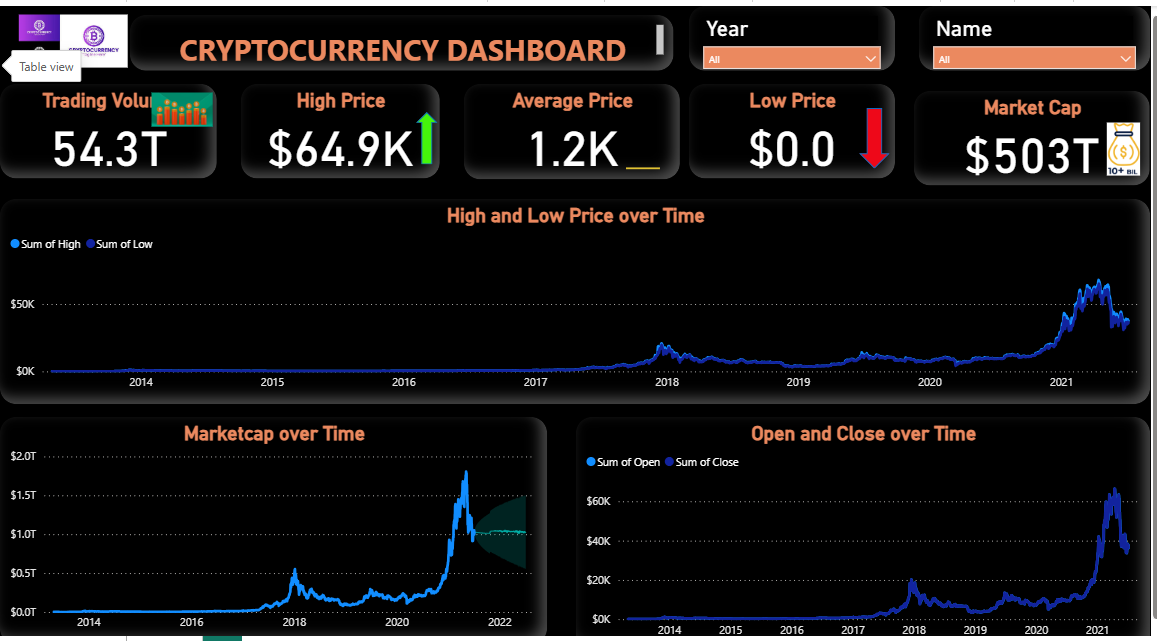

Layout of this report page (visuals, bound fields, positions):
{"tool":"powerbi","page":{"name":"Dashboard","canvas":[1280,720],"ordinal":0},"visuals":[{"type":"slicer","fields":{"Values":["CryptoData.Name"]},"box":[1021.1,0,258.9,74.4],"z":0},{"type":"slicer","fields":{"Values":["CryptoData.Year"]},"box":[765.6,0,231.1,74.4],"z":1000},{"type":"lineChart","title":"Marketcap  over Time","fields":{"Category":["CryptoData.Date"],"Y":["Sum(CryptoData.Marketcap)"]},"box":[0,457.1,610.3,254.9],"z":2000},{"type":"textbox","box":[144.4,10,605.6,64.4],"z":3000},{"type":"card","title":"Market Cap","fields":{"Values":["Sum(CryptoData.Marketcap)"]},"box":[1016,94.9,264,107.4],"z":4000},{"type":"card","title":"High Price","fields":{"Values":["Max(CryptoData.High)"]},"box":[267.4,86.9,222.9,107.4],"z":6000},{"type":"card","title":"Average Price","fields":{"Values":["Avg(CryptoData.Average)"]},"box":[515.6,86.7,242.2,107.8],"z":7000},{"type":"card","title":"Low Price","fields":{"Values":["Min(CryptoData.Low)"]},"box":[765.7,86.9,230.9,107.4],"z":8000},{"type":"shape","box":[462.9,118.9,24,58.3],"z":9000},{"type":"shape","box":[955.4,114.3,34.3,67.4],"z":10000},{"type":"shape","box":[697.1,169.1,37.7,25.1],"z":11000},{"type":"lineChart","title":"Open and Close over Time","fields":{"Category":["CryptoData.Date"],"Y":["Sum(CryptoData.Open)","Sum(CryptoData.Close)"]},"box":[640,457.1,640,262.9],"z":11001},{"type":"lineChart","title":"High and Low Price over Time","fields":{"Category":["CryptoData.Date"],"Y":["Sum(CryptoData.High)","Sum(CryptoData.Low)"]},"box":[0,214.9,1280,229.7],"z":11002},{"type":"image","box":[1219.4,125.7,60.6,68.6],"z":11004},{"type":"card","title":"Trading Volume","fields":{"Values":["Sum(CryptoData.Volume)"]},"box":[0,86.9,243.4,107.4],"z":11005},{"type":"image","box":[164.6,92.6,78.9,48],"z":11006},{"type":"image","box":[0,5.6,164.4,68.9],"z":11007}]}

Visuals, with their boxes on the page's 1280x720 design canvas (x1, y1, x2, y2). These are canvas units, not pixel positions in the 1157x641 screenshot, which may show the page scaled, cropped or inside an application window:
slicer - CryptoData.Name: crop(1021, 0, 1280, 74)
slicer - CryptoData.Year: crop(766, 0, 997, 74)
"Marketcap  over Time" lineChart: crop(0, 457, 610, 712)
textbox: crop(144, 10, 750, 74)
"Market Cap" card: crop(1016, 95, 1280, 202)
"High Price" card: crop(267, 87, 490, 194)
"Average Price" card: crop(516, 87, 758, 194)
"Low Price" card: crop(766, 87, 997, 194)
shape: crop(463, 119, 487, 177)
shape: crop(955, 114, 990, 182)
shape: crop(697, 169, 735, 194)
"Open and Close over Time" lineChart: crop(640, 457, 1280, 720)
"High and Low Price over Time" lineChart: crop(0, 215, 1280, 445)
image: crop(1219, 126, 1280, 194)
"Trading Volume" card: crop(0, 87, 243, 194)
image: crop(165, 93, 244, 141)
image: crop(0, 6, 164, 74)
